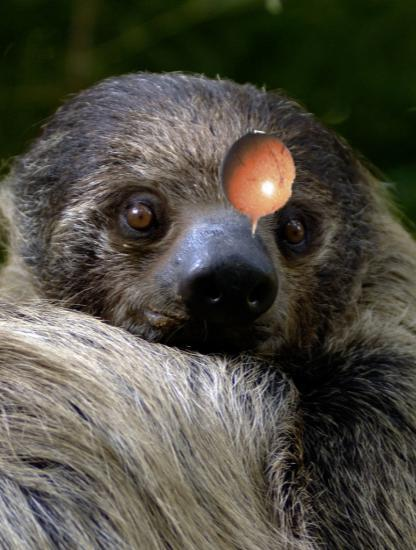Granadilla: (202, 131, 310, 239)
